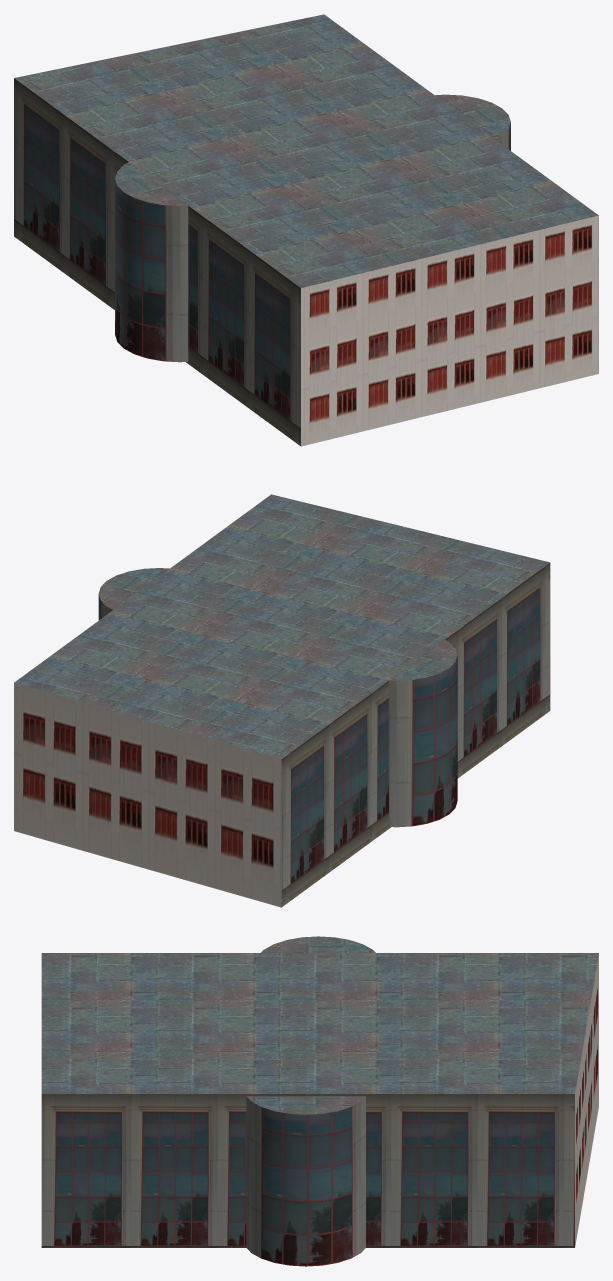
Rendered from LecuTerminal.gltf.
The picture shows the model from 3 angles, top to bottom: view 1: azimuth 30°, elevation 25°; view 2: azimuth 150°, elevation 25°; view 3: azimuth 270°, elevation 25°; orthographic projection. The views are drawn at different scales.
Parts seen in each view (by area): view 1: SketchUp.001, SketchUp.002, SketchUp, SketchUp.008, SketchUp.007; view 2: SketchUp.001, SketchUp.003, SketchUp, SketchUp.008, SketchUp.007; view 3: SketchUp.001, SketchUp.005, SketchUp.004, SketchUp.003, SketchUp.007.
Boxes of the visible parts, bbox=[...] form: SketchUp.001: bbox=[14, 14, 598, 287]; SketchUp.002: bbox=[301, 215, 598, 446]; SketchUp: bbox=[14, 78, 300, 446]; SketchUp.008: bbox=[115, 179, 188, 362]; SketchUp.007: bbox=[435, 94, 510, 139]; SketchUp.001: bbox=[14, 494, 549, 758]; SketchUp.003: bbox=[14, 683, 281, 907]; SketchUp: bbox=[281, 563, 550, 906]; SketchUp.008: bbox=[389, 655, 457, 827]; SketchUp.007: bbox=[98, 568, 169, 609]; SketchUp.001: bbox=[41, 936, 598, 1093]; SketchUp.005: bbox=[41, 1094, 574, 1247]; SketchUp.004: bbox=[246, 1096, 365, 1266]; SketchUp.003: bbox=[575, 954, 598, 1246]; SketchUp.007: bbox=[247, 1096, 365, 1114].
Size of the model in its own units: 37.74 by 15.23 by 52.49.
4 materials, 3 textured.
